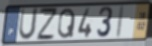3: (95, 5, 115, 40)
4: (77, 7, 93, 40)
I: (114, 5, 126, 40)
Q: (56, 7, 77, 40)
U: (17, 7, 40, 42)
Z: (36, 7, 58, 42)
